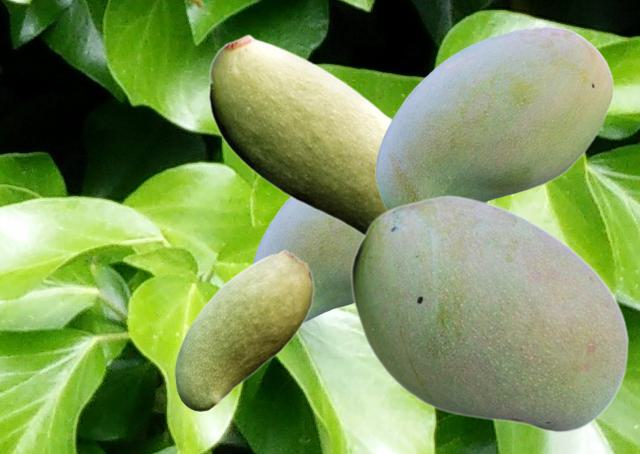green_mango: (350, 194, 628, 432), (375, 26, 613, 209), (208, 33, 390, 235), (174, 249, 313, 410), (251, 197, 361, 323)
